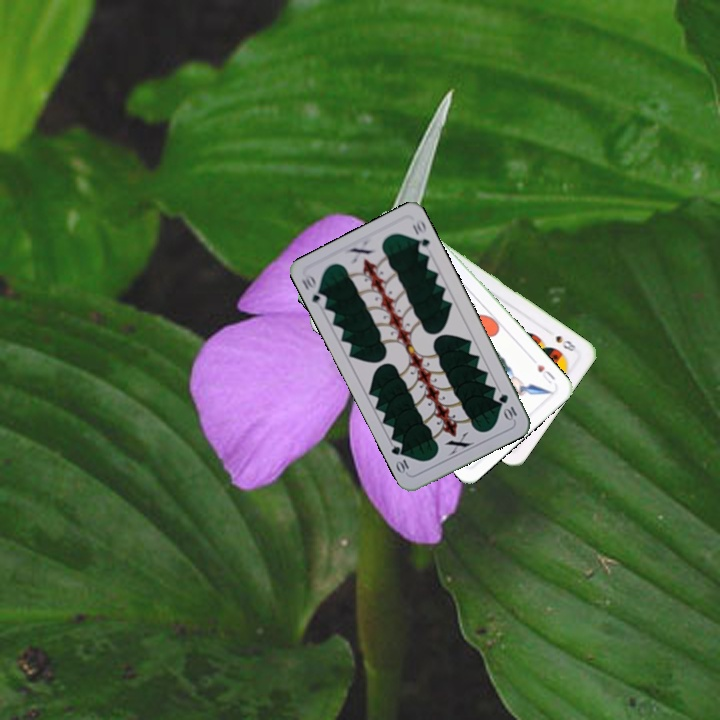G10: (297, 271, 330, 307), (495, 390, 520, 423)
HU: (533, 360, 558, 387)
S8: (551, 331, 582, 354)
